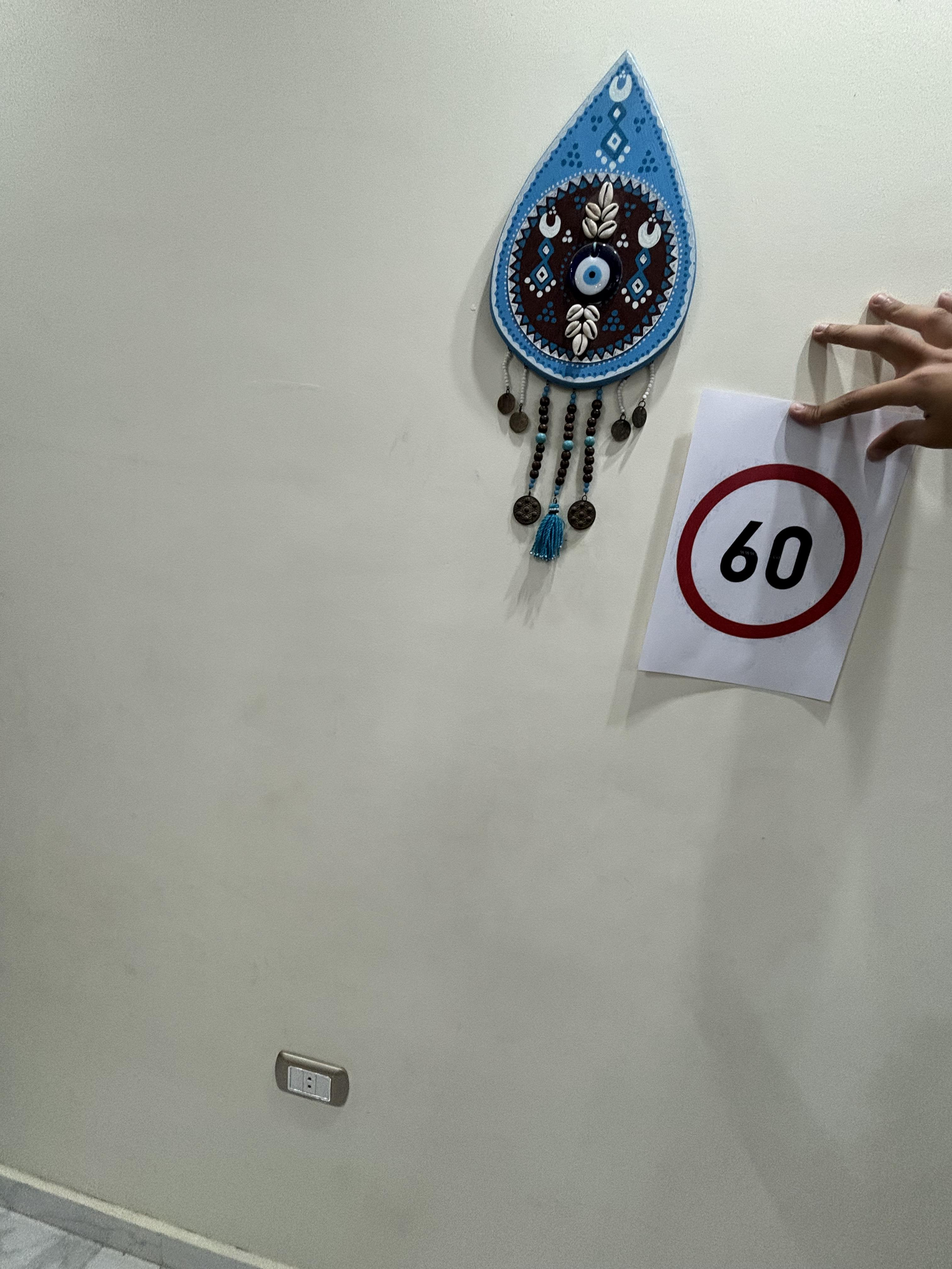60-Speed: (671, 457, 873, 651)
